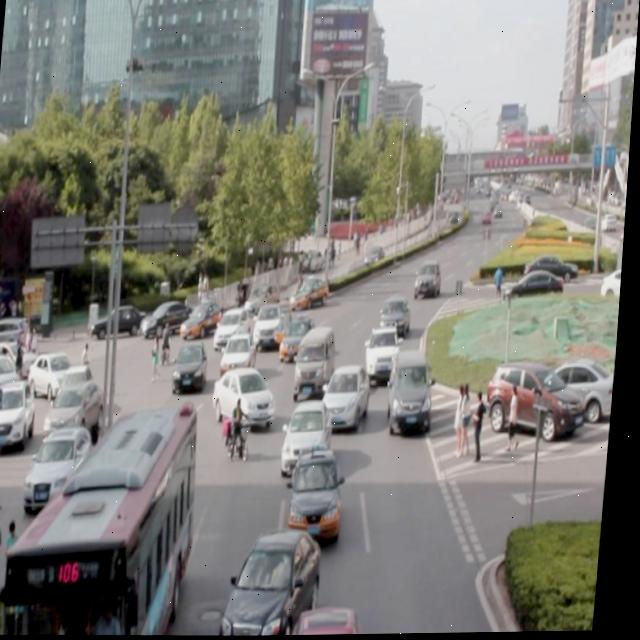car: (226, 525, 328, 637), (293, 447, 351, 537), (214, 363, 283, 430), (285, 399, 339, 475), (391, 349, 438, 430), (321, 363, 376, 432), (300, 603, 374, 636), (366, 325, 404, 379), (286, 310, 327, 360), (255, 300, 291, 355), (223, 330, 263, 377), (175, 339, 212, 389), (298, 270, 340, 310), (219, 307, 255, 350), (384, 295, 415, 337), (416, 261, 445, 299)
truck: (300, 325, 340, 392)
van: (12, 401, 204, 638)
